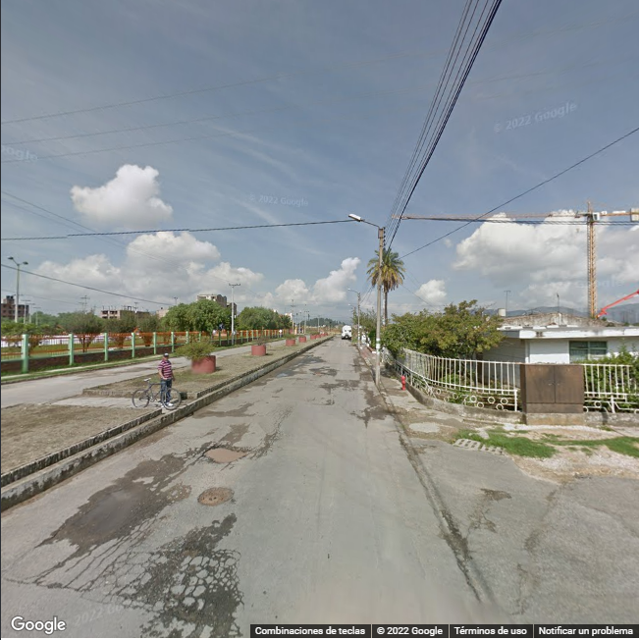D00: (65, 535, 121, 589)
D10: (467, 481, 498, 541)
D20: (163, 547, 242, 616)
D40: (201, 437, 247, 466)
